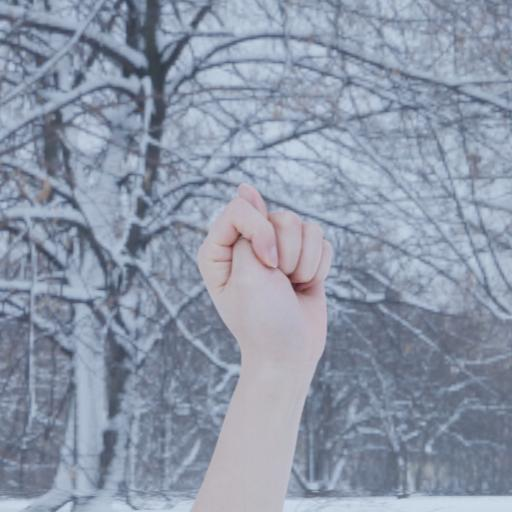T: (170, 135, 404, 410)
